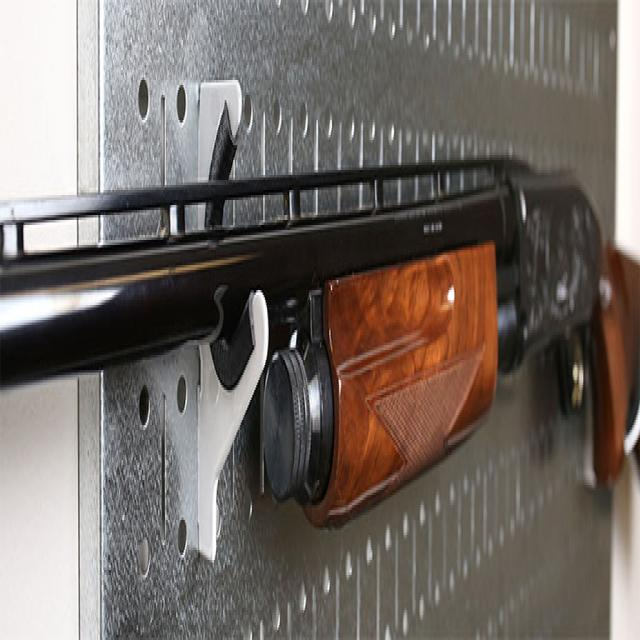ShotGun: (0, 160, 640, 532)
